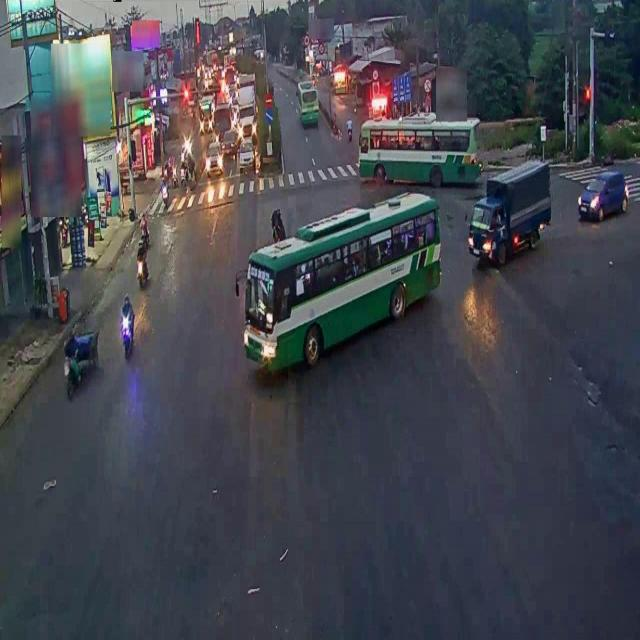bus: (244, 208, 444, 382)
motorcycle: (268, 200, 286, 252)
